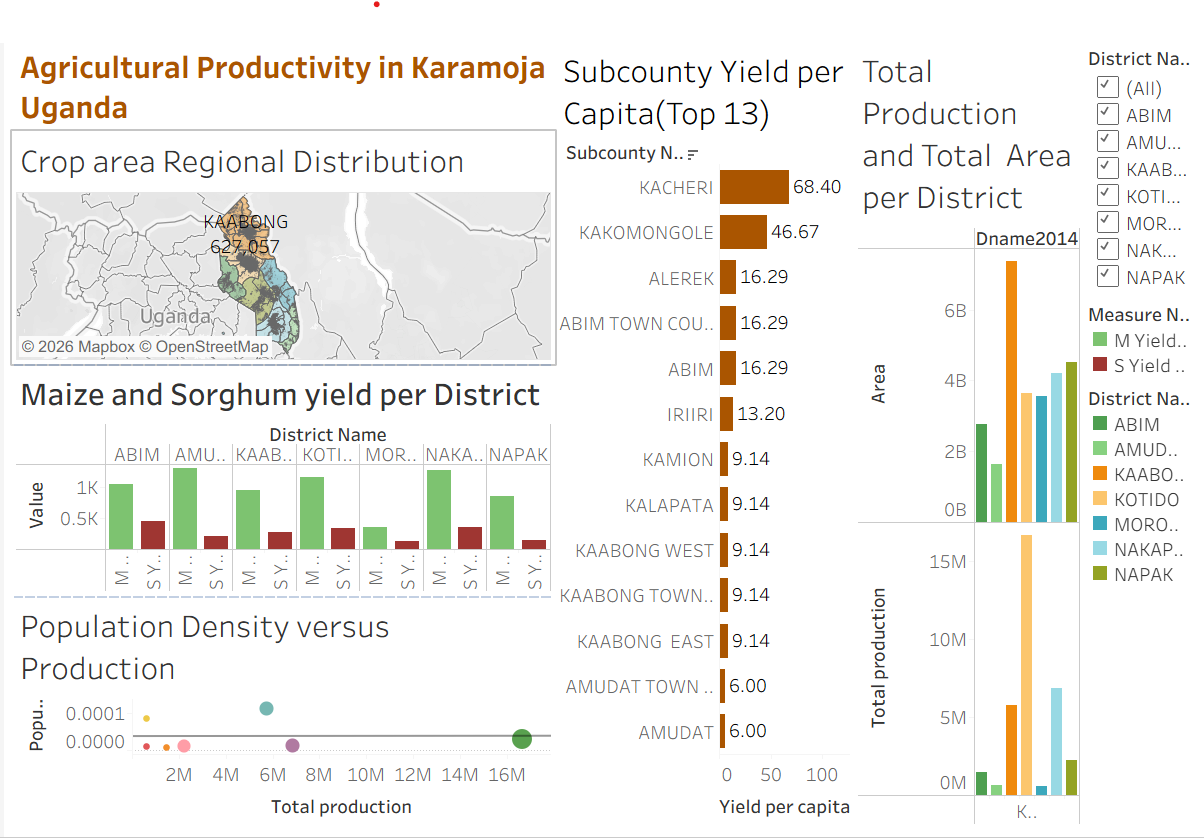

What the dashboard file says about the page in this screenshot:
{"tool":"tableau","page":{"name":"Karamoja-Dasboard","canvas":[1000,1000],"units":"permille","ordinal":0},"visuals":[{"type":"title","box":[6.7,10,452.5,112.5]},{"type":"worksheet","title":"Subcounty Yield per Capita(Top 13)","mark":"Automatic","rows":["SUBCOUNTY_NAME"],"cols":["Calculation_2332105313955841"],"box":[459.2,10,150,980]},{"type":"worksheet","title":"Area and production per district","mark":"Bar","rows":["Area (Uganda_Karamoja_Subcounty_Crop_Yield_Population.csv)","Calculation_2394777184604161"],"cols":["DNAME2014"],"box":[609.2,10,271.7,980]},{"type":"filter","title":"Regional Distribution of Crop area","param":"[federated.0vzf74e11uvxp81eiiy9o0x52h9p].[none:DISTRICT_NAME:nk]","box":[880.8,10,112.5,320]},{"type":"worksheet","title":"Regional Distribution of Crop area","mark":"Automatic","box":[6.7,122.5,452.5,289.2]},{"type":"legend","title":"Maize and Sorghum yield per District","param":"[federated.0vzf74e11uvxp81eiiy9o0x52h9p].[:Measure Names]","box":[880.8,330,112.5,105]},{"type":"worksheet","title":"Maize and Sorghum yield per District","mark":"Automatic","cols":["DISTRICT_NAME"],"box":[6.7,411.7,452.5,289.2]},{"type":"legend","title":"Area and production per district","param":"[federated.0vzf74e11uvxp81eiiy9o0x52h9p].[none:DISTRICT_NAME:nk]","box":[880.8,435,112.5,261.2]},{"type":"worksheet","title":"Population Density versus Production","mark":"Circle","rows":["Calculation_2394777186267138"],"cols":["Calculation_2394777184604161"],"box":[6.7,700.8,452.5,289.2]}]}

Visuals, with their boxes on the dashboard's canvas, which has no fixed pixel size, in thousandths of its width and height (x1, y1, x2, y2). These are canvas units, not pixel positions in the 1204x838 screenshot, which may show the page scaled, cropped or inside an application window:
title: (left=7, top=10, right=459, bottom=122)
"Subcounty Yield per Capita(Top 13)" worksheet: (left=459, top=10, right=609, bottom=990)
"Area and production per district" worksheet (Bar marks): (left=609, top=10, right=881, bottom=990)
"Regional Distribution of Crop area" filter: (left=881, top=10, right=993, bottom=330)
"Regional Distribution of Crop area" worksheet: (left=7, top=122, right=459, bottom=412)
"Maize and Sorghum yield per District" legend: (left=881, top=330, right=993, bottom=435)
"Maize and Sorghum yield per District" worksheet: (left=7, top=412, right=459, bottom=701)
"Area and production per district" legend: (left=881, top=435, right=993, bottom=696)
"Population Density versus Production" worksheet (Circle marks): (left=7, top=701, right=459, bottom=990)
